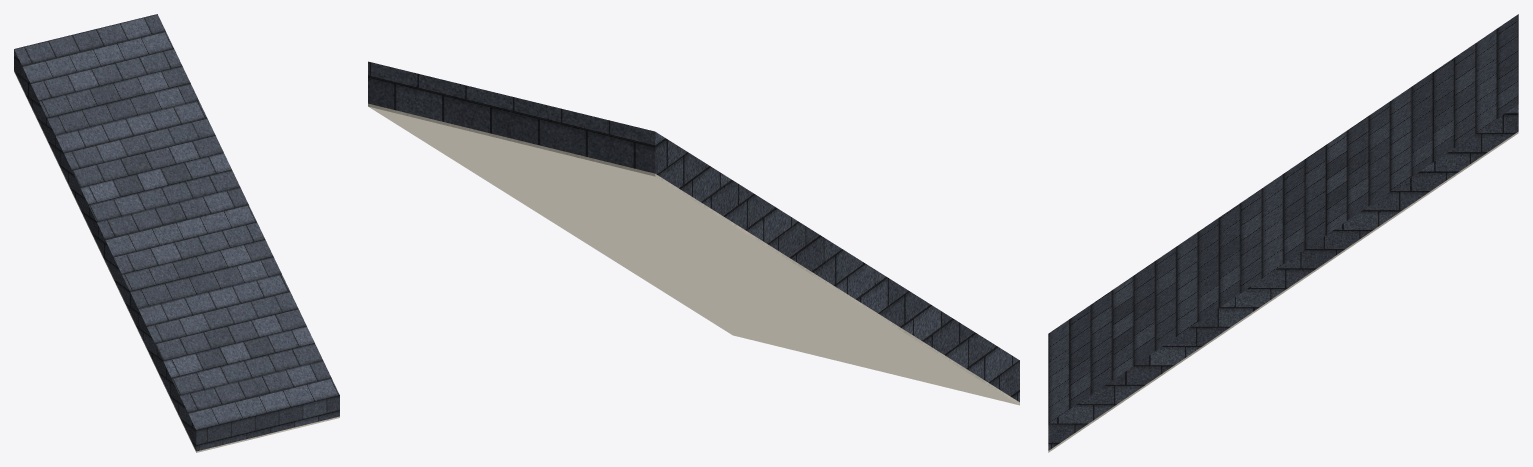
The model's file is wing_slope.glb.
3 views of the same model, side by side, from view 1: azimuth 30°, elevation 25°; view 2: azimuth 150°, elevation 25°; view 3: azimuth 270°, elevation 25° (orthographic). The views are drawn at different scales.
Parts seen in each view (by area): view 1: wing_slope_shingle, wing_slope_plaster; view 2: wing_slope_plaster, wing_slope_shingle; view 3: wing_slope_shingle, wing_slope_plaster.
Part boxes in pixels (x1,y1,x2,y2): wing_slope_shingle: (14, 14, 339, 451); wing_slope_plaster: (14, 70, 339, 452); wing_slope_plaster: (368, 103, 1019, 405); wing_slope_shingle: (368, 61, 1019, 402); wing_slope_shingle: (1048, 14, 1518, 450); wing_slope_plaster: (1048, 131, 1518, 452).
Size of the model in its own units: 2 by 3.6 by 4.4.
2 materials, 2 textured.
